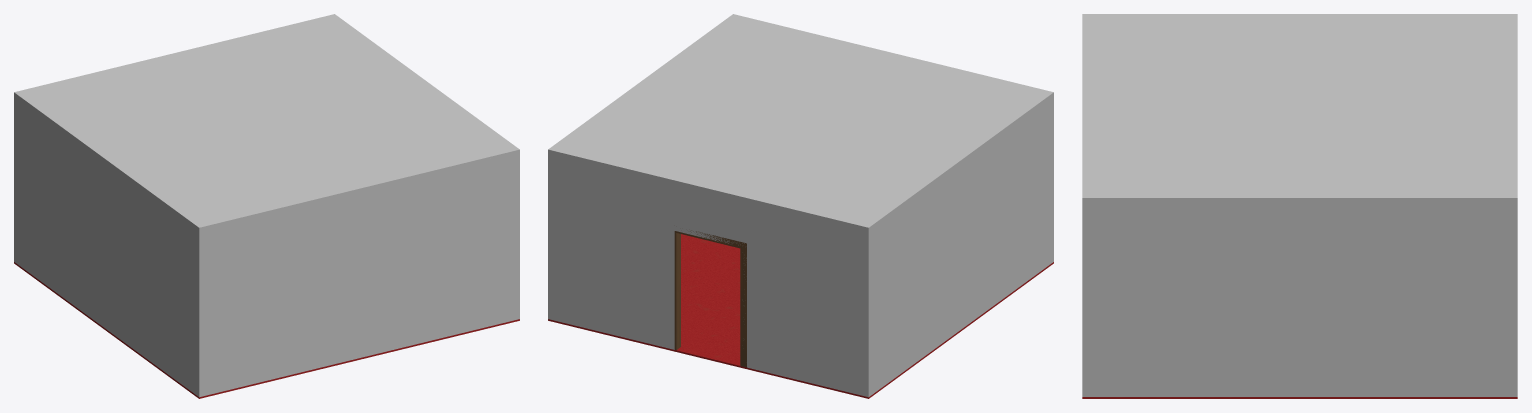
Rendered from 1x1_hotel_room_end.obj.
3 views of the same model, side by side, from view 1: azimuth 30°, elevation 25°; view 2: azimuth 150°, elevation 25°; view 3: azimuth 270°, elevation 25° (orthographic). The views are drawn at different scales.
Parts seen in each view (by area): view 1: 1x1_hotel_room_end; view 2: 1x1_hotel_room_end; view 3: 1x1_hotel_room_end.
Boxes of the visible parts, x1,y1,x2,y2 form: 1x1_hotel_room_end: [14, 14, 519, 398]; 1x1_hotel_room_end: [548, 14, 1053, 398]; 1x1_hotel_room_end: [1082, 14, 1517, 398].
Size of what is drawn, in the model's own units: 20 by 10.2 by 20.
